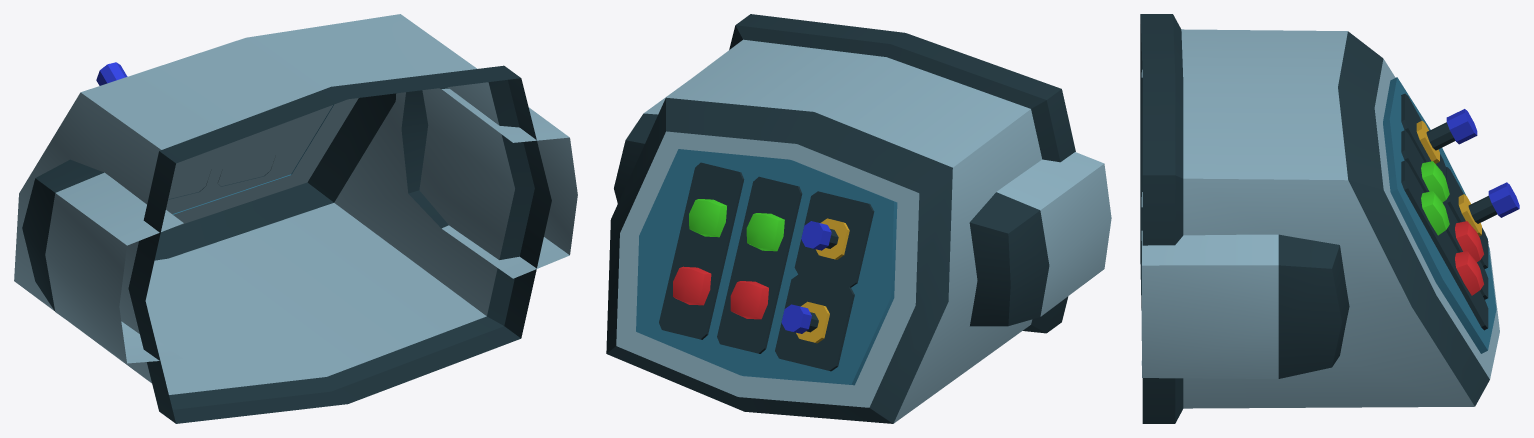
Rendered from Machine 02 Controller.FBX.
3 renders of one model, left to right at view 1: azimuth 30°, elevation 25°; view 2: azimuth 150°, elevation 25°; view 3: azimuth 270°, elevation 25°, orthographic. The views are drawn at different scales.
Parts seen in each view (by area): view 1: Machine 02 Controller; view 2: Machine 02 Controller; view 3: Machine 02 Controller.
Boxes of the visible parts, left/top/right/bottom form: Machine 02 Controller: left=14, top=14, right=577, bottom=423; Machine 02 Controller: left=606, top=14, right=1111, bottom=423; Machine 02 Controller: left=1140, top=14, right=1519, bottom=423.
Size of the model in its own units: 112 by 70.6 by 83.35.
Materials: 1 (1 with a texture image).
